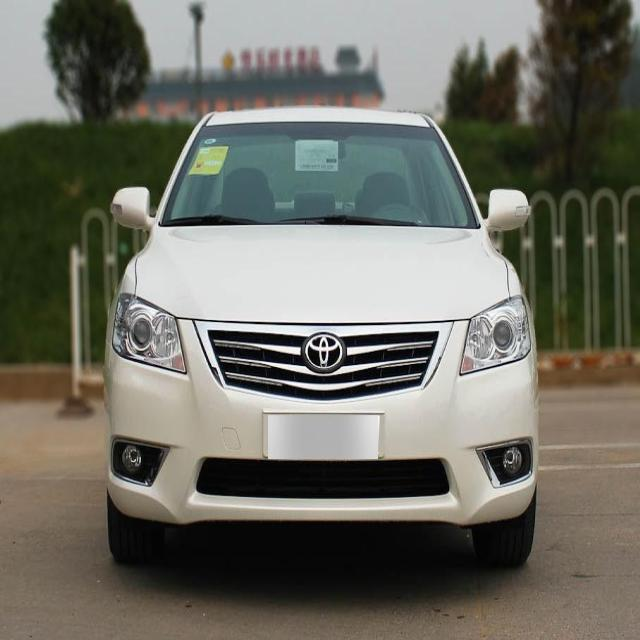front_bumper: (102, 317, 544, 525)
front_glass: (160, 122, 480, 226)
front_left_side_light: (459, 292, 531, 378)
front_left_side_mirror: (484, 188, 532, 234)
front_right_side_light: (112, 290, 187, 374)
front_right_side_mirror: (110, 185, 154, 231)
